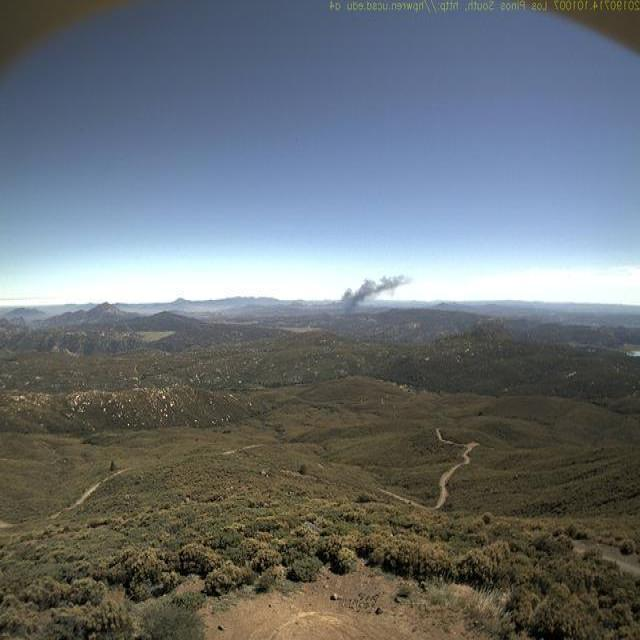Smoke: (338, 267, 416, 317)
